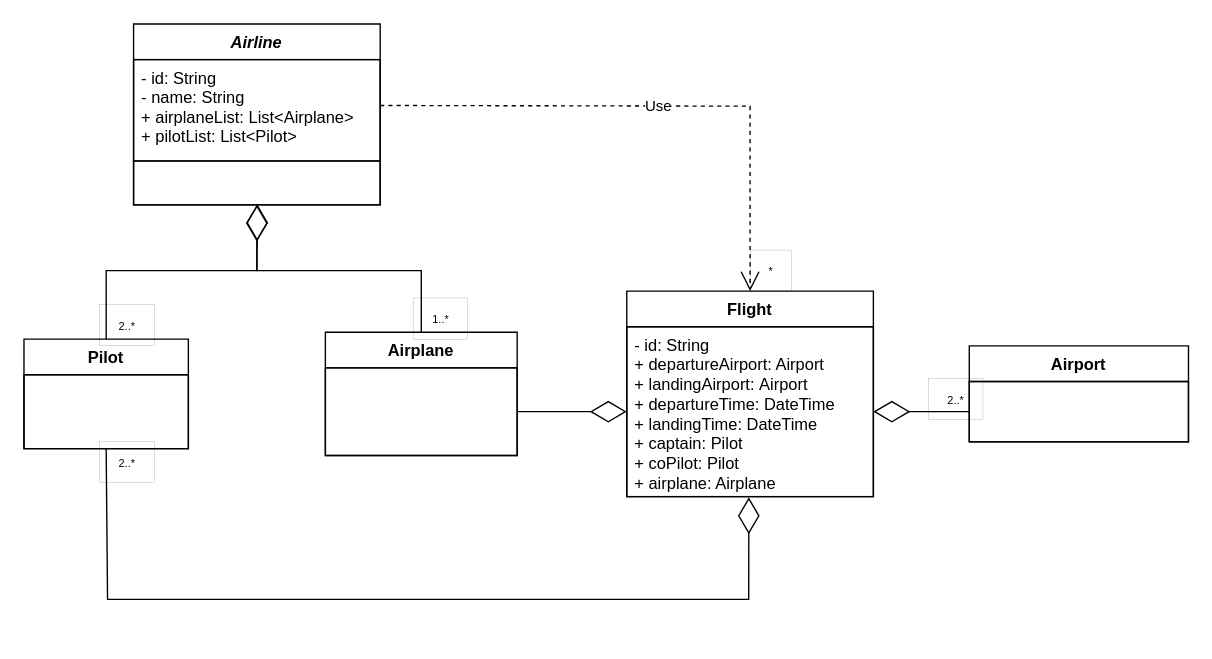
This 1212x659 diagram has some shape labels left out. The shapes that lost their labels are listed below. From the top down, each one's centre as x and y in pixels, then its label:
the point at 256,182: + flight(Flight)
the point at 105,411: - id: String - name: String - experience: String
the point at 420,411: - type: String - id: String + status: String - requiredPilots: int
the point at 1078,411: - id: String - name: String
